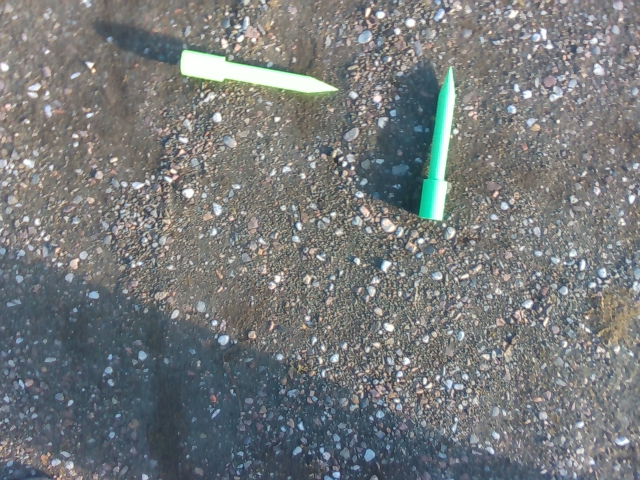Probe: (173, 44, 342, 101), (414, 60, 465, 227)
